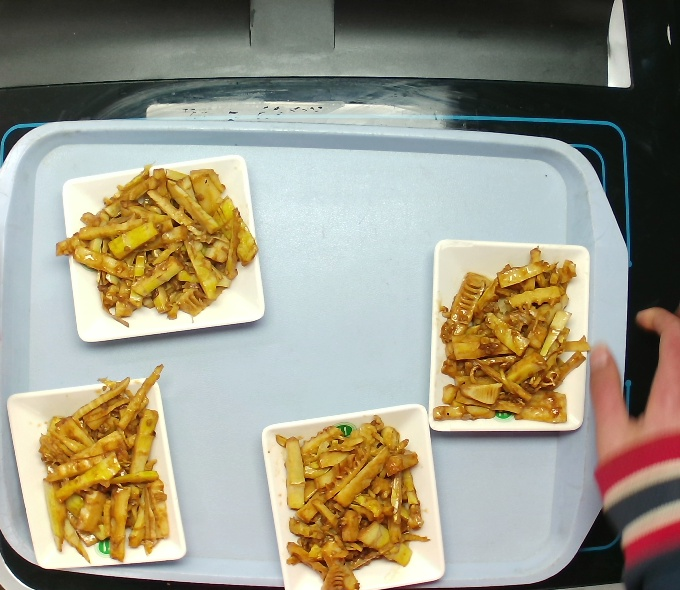wcq-QingChaoChunSun: (20, 361, 195, 568), (54, 158, 259, 333), (268, 413, 442, 589), (439, 244, 581, 439)
